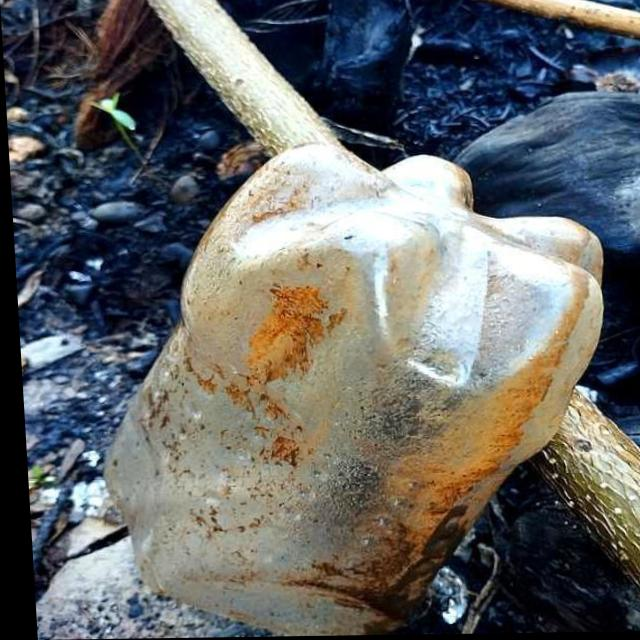Non-biodegradable: (87, 140, 619, 640)
